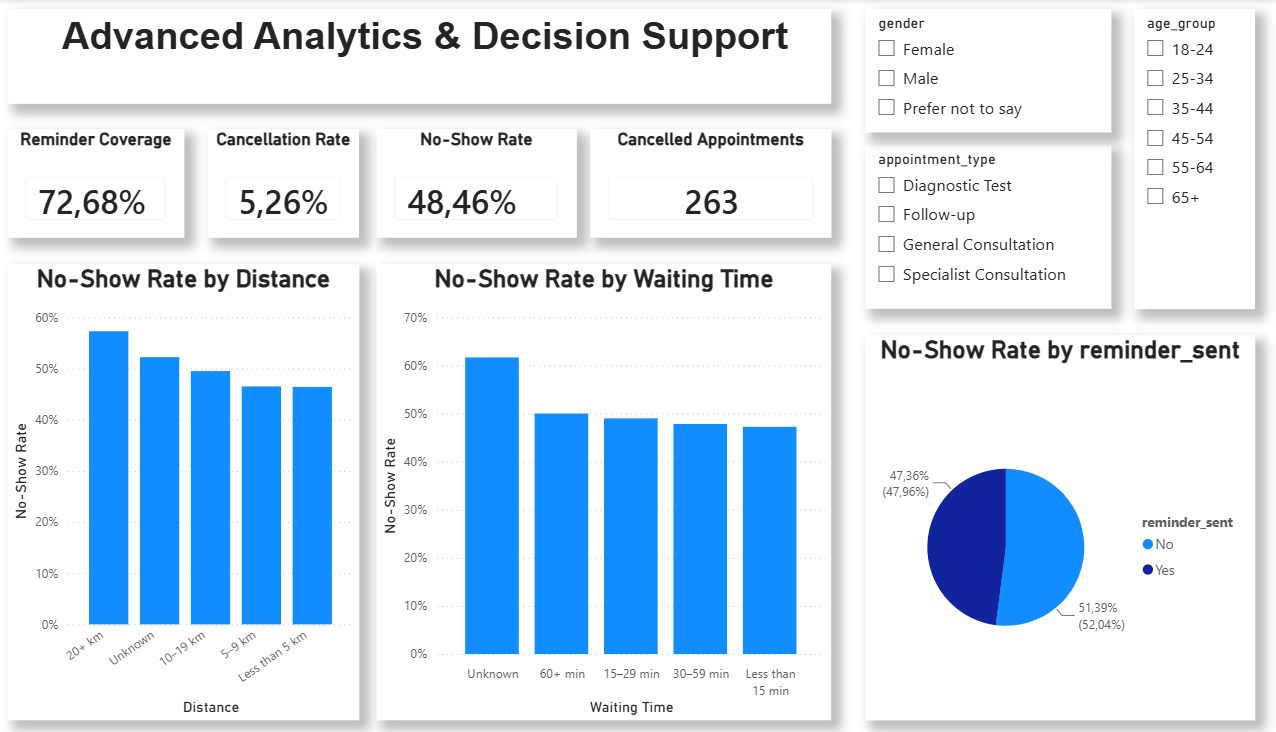

This screenshot's page, from the dashboard's own definition file:
{"tool":"powerbi","page":{"name":"Week 6","canvas":[1280,720],"ordinal":1},"visuals":[{"type":"columnChart","title":"No-Show Rate by Distance","fields":{"Category":["HealthConnect_Appointment_Data.Distance Band"],"Y":["HealthConnect_Appointment_Data.No-Show Rate"]},"box":[18.3,259.2,343.6,446.3],"z":0},{"type":"columnChart","title":"No-Show Rate by Waiting Time","fields":{"Category":["HealthConnect_Appointment_Data.Waiting Time Band"],"Y":["HealthConnect_Appointment_Data.No-Show Rate"]},"box":[379.1,259.2,445.1,446.3],"z":1000},{"type":"pieChart","fields":{"Category":["HealthConnect_Appointment_Data.reminder_sent"],"Y":["HealthConnect_Appointment_Data.No-Show Rate"]},"box":[857.2,328.9,381.5,376.6],"z":2000},{"type":"slicer","fields":{"Values":["HealthConnect_Appointment_Data.age_group"]},"box":[1120.1,9.8,118.6,293.5],"z":3000},{"type":"slicer","fields":{"Values":["HealthConnect_Appointment_Data.appointment_type"]},"box":[857.2,143.1,240.9,160.2],"z":4000},{"type":"slicer","fields":{"Values":["HealthConnect_Appointment_Data.gender"]},"box":[857.2,9.8,240.9,121.1],"z":5000},{"type":"cardVisual","title":"Reminder Coverage","fields":{"Data":["HealthConnect_Appointment_Data.Reminder Coverage"]},"box":[18.3,127.2,172.4,106.4],"z":5001},{"type":"cardVisual","title":"Cancellation Rate","fields":{"Data":["HealthConnect_Appointment_Data.Cancellation Rate"]},"box":[214,127.2,148,106.4],"z":5002},{"type":"cardVisual","title":"No-Show Rate","fields":{"Data":["HealthConnect_Appointment_Data.No-Show Rate"]},"box":[379.1,127.2,195.7,106.4],"z":5003},{"type":"cardVisual","title":"Cancelled Appointments","fields":{"Data":["HealthConnect_Appointment_Data.Cancelled Appointments"]},"box":[588.2,127.2,236,106.4],"z":5004},{"type":"textbox","box":[18.3,9.8,805.8,92.9],"z":5005}]}

Visuals, with their boxes in screenshot pixels (x1, y1, x2, y2), scaled from the page's 1280x720 canvas onto the 1276x732 screenshot:
"No-Show Rate by Distance" columnChart: crop(18, 264, 361, 717)
"No-Show Rate by Waiting Time" columnChart: crop(378, 264, 822, 717)
pieChart - HealthConnect_Appointment_Data.reminder_sent x HealthConnect_Appointment_Data.No-Show Rate: crop(855, 334, 1235, 717)
slicer - HealthConnect_Appointment_Data.age_group: crop(1117, 10, 1235, 308)
slicer - HealthConnect_Appointment_Data.appointment_type: crop(855, 145, 1095, 308)
slicer - HealthConnect_Appointment_Data.gender: crop(855, 10, 1095, 133)
"Reminder Coverage" cardVisual: crop(18, 129, 190, 237)
"Cancellation Rate" cardVisual: crop(213, 129, 361, 237)
"No-Show Rate" cardVisual: crop(378, 129, 573, 237)
"Cancelled Appointments" cardVisual: crop(586, 129, 822, 237)
textbox: crop(18, 10, 822, 104)
